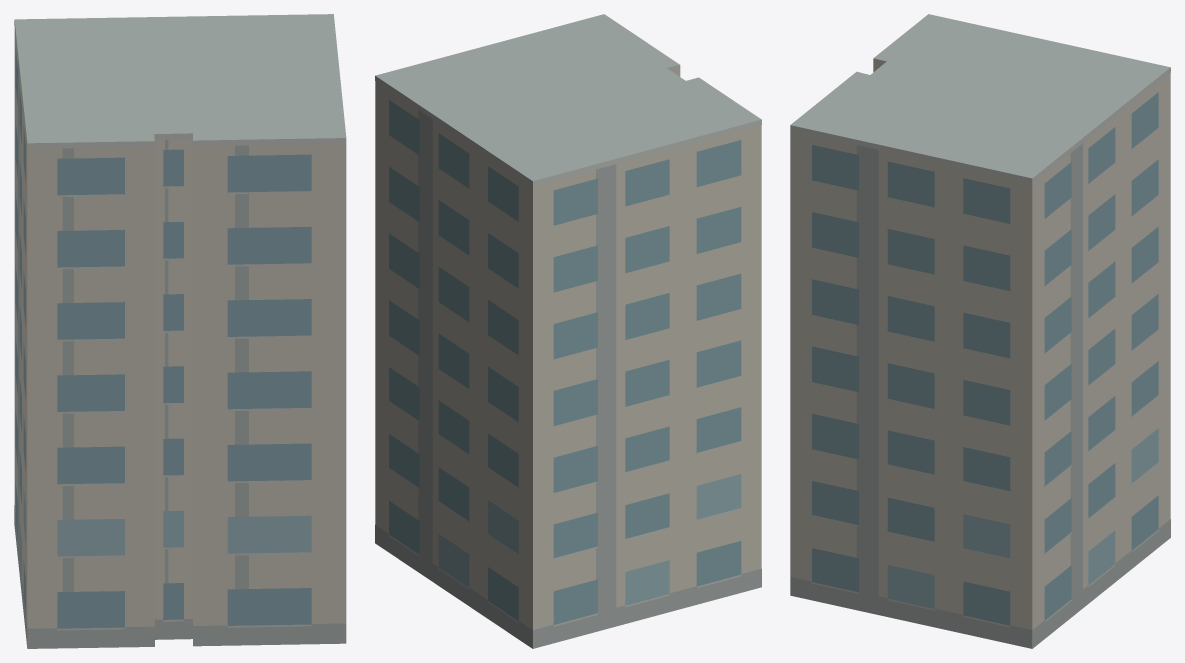
Rendered from survey-upis-32554881.glb.
The picture shows the model from 3 angles, left to right: view 1: azimuth 30°, elevation 25°; view 2: azimuth 150°, elevation 25°; view 3: azimuth 270°, elevation 25°; orthographic projection. The views are drawn at different scales.
Parts seen in each view (by area): view 1: survey-upis-32554881.tmp; view 2: survey-upis-32554881.tmp; view 3: survey-upis-32554881.tmp.
Part boxes in pixels (x1,y1,x2,y2): survey-upis-32554881.tmp: [14, 14, 346, 648]; survey-upis-32554881.tmp: [375, 14, 761, 648]; survey-upis-32554881.tmp: [790, 14, 1170, 648].
Bounding box in the file's own units: 16.01 × 21.35 × 15.66.
